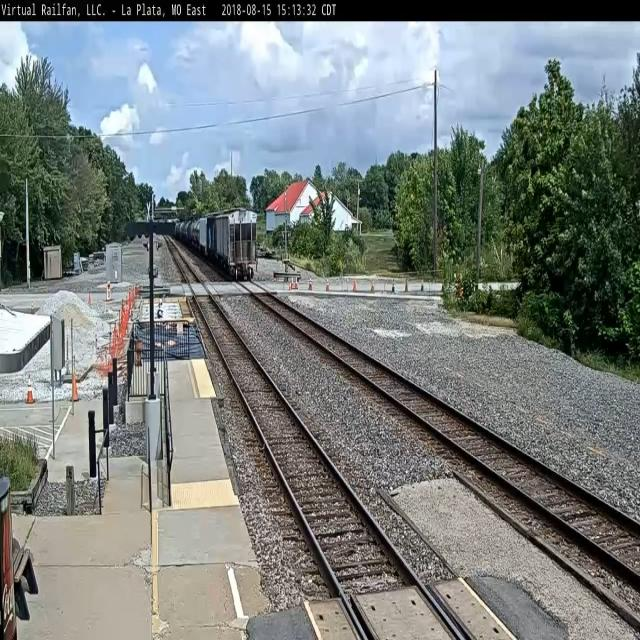hopper: (213, 204, 259, 284)
